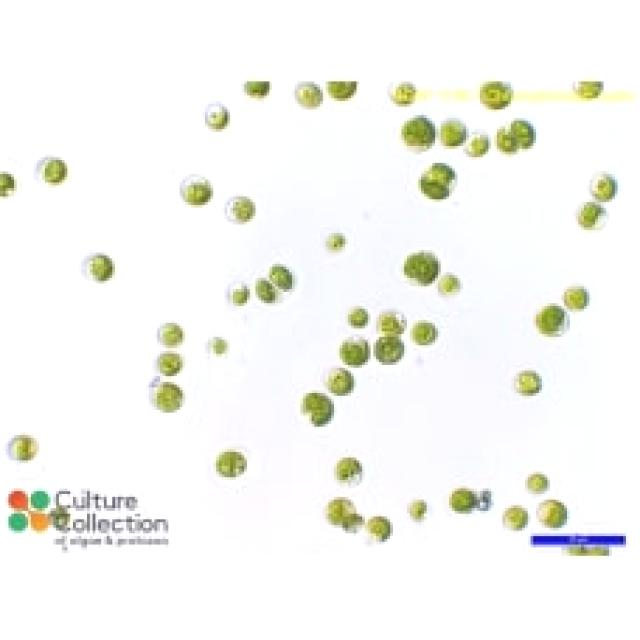Green Algae: (398, 242, 441, 289), (418, 160, 458, 202), (401, 115, 438, 152), (300, 390, 337, 427), (575, 199, 612, 233), (536, 303, 570, 340), (505, 112, 536, 152), (177, 174, 213, 208), (3, 432, 42, 463), (337, 334, 376, 365), (480, 78, 516, 110), (438, 115, 469, 152), (81, 252, 115, 284), (292, 81, 326, 112), (152, 382, 185, 412), (376, 334, 407, 365), (536, 500, 570, 528), (213, 449, 247, 477), (331, 458, 365, 486), (590, 171, 620, 202), (326, 365, 356, 396), (40, 154, 68, 186), (225, 197, 258, 224), (269, 261, 295, 295), (323, 497, 351, 528), (323, 222, 348, 255), (449, 488, 480, 514), (154, 351, 186, 376), (368, 516, 393, 548), (502, 506, 530, 534), (388, 81, 418, 107), (253, 275, 278, 306), (376, 309, 407, 334), (564, 284, 590, 312), (154, 323, 186, 345), (205, 104, 230, 132), (466, 129, 491, 157), (516, 370, 542, 396), (326, 81, 359, 101), (497, 124, 519, 154), (412, 323, 440, 345), (227, 283, 250, 309), (528, 469, 550, 494), (348, 306, 371, 328), (342, 514, 365, 536), (407, 500, 429, 522), (441, 275, 460, 298), (208, 337, 227, 356)
